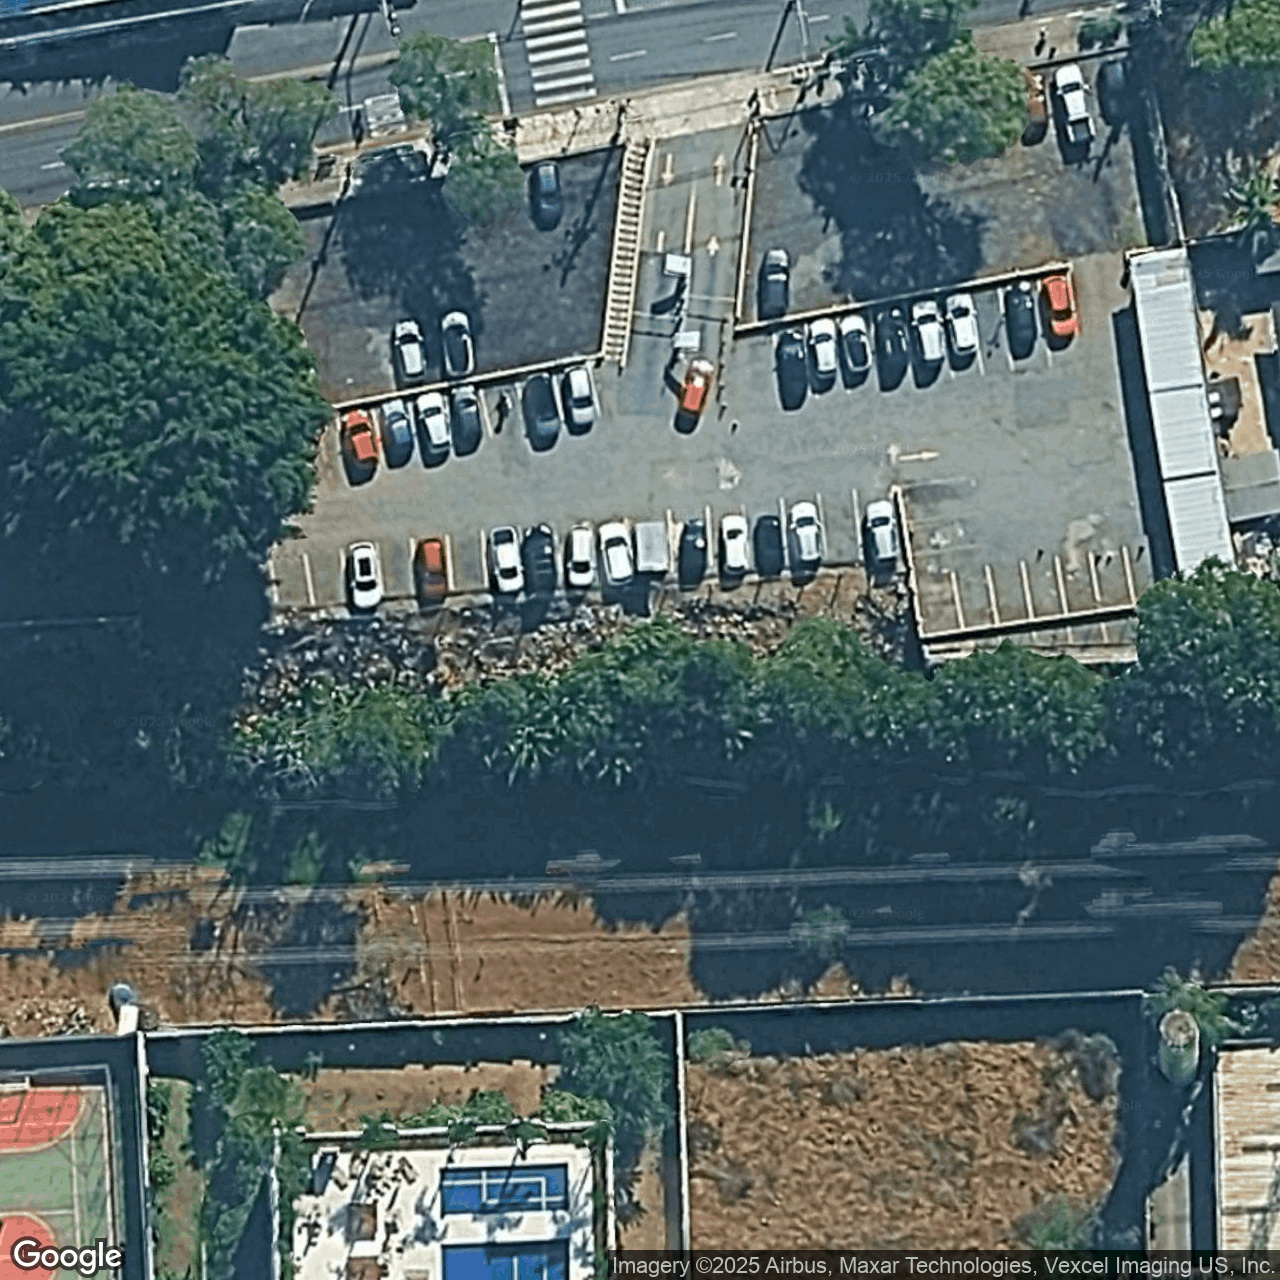pool: (423, 1155, 590, 1221)
